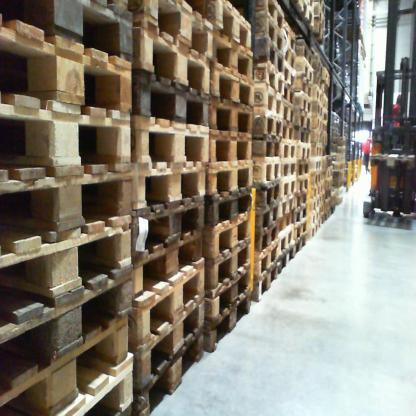pallets: (0, 0, 334, 416)
